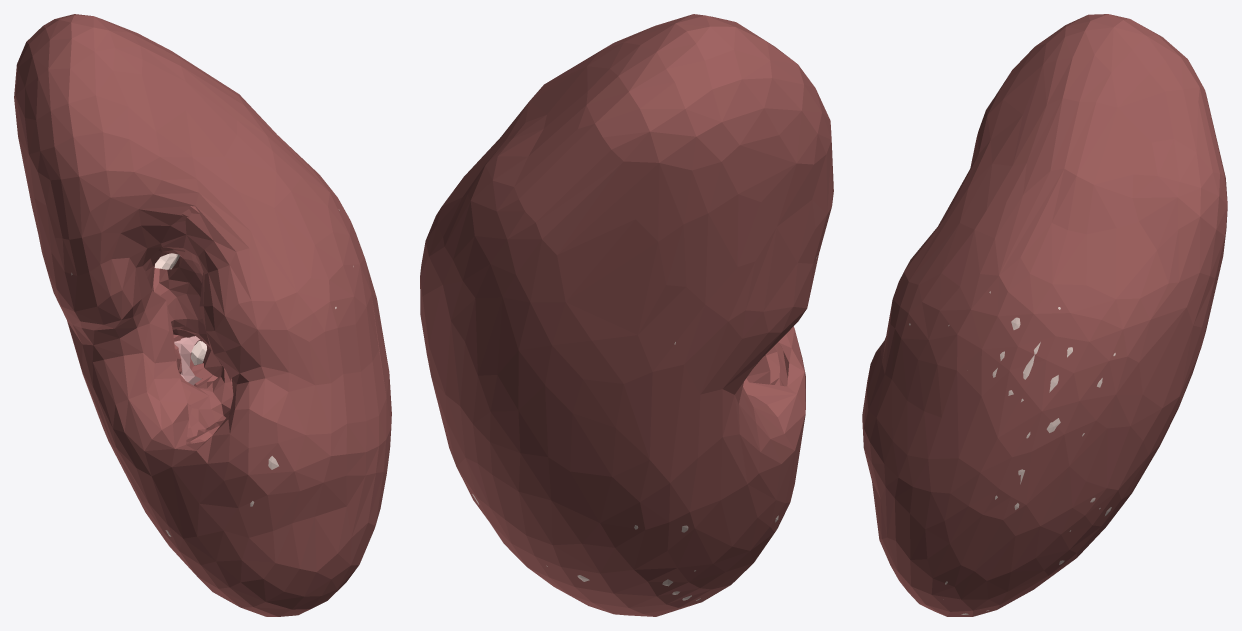
File: VH_F_Kidney_L_0.2.glb
3 renders of one model, left to right at view 1: azimuth 30°, elevation 25°; view 2: azimuth 150°, elevation 25°; view 3: azimuth 270°, elevation 25°, orthographic. The views are drawn at different scales.
Visible parts, largest first — view 1: VH_F_kidney_capsule_L, VH_F_hilum_of_kidney_L, VH_F_renal_pyramid_L_g, VH_F_renal_column_L; view 2: VH_F_kidney_capsule_L, VH_F_hilum_of_kidney_L; view 3: VH_F_kidney_capsule_L, VH_F_outer_cortex_of_kidney_L.
Part boxes in pixels (bbox=[...]): VH_F_kidney_capsule_L: bbox=[14, 14, 391, 616]; VH_F_hilum_of_kidney_L: bbox=[143, 206, 233, 444]; VH_F_renal_pyramid_L_g: bbox=[174, 336, 202, 385]; VH_F_renal_column_L: bbox=[154, 253, 206, 365]; VH_F_kidney_capsule_L: bbox=[420, 14, 833, 616]; VH_F_hilum_of_kidney_L: bbox=[744, 342, 787, 386]; VH_F_kidney_capsule_L: bbox=[862, 14, 1227, 616]; VH_F_outer_cortex_of_kidney_L: bbox=[909, 291, 1115, 614].
Bounding box in the file's own units: 0.0731 × 0.1253 × 0.0776.
